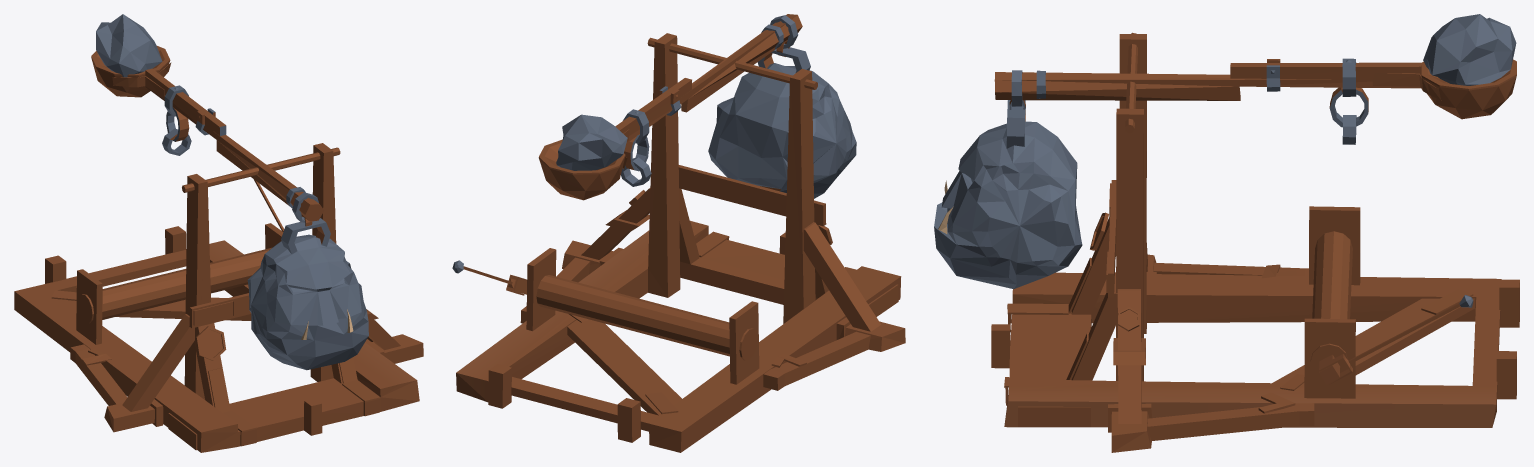
File: trebuchet.fbx
3 views of the same model, side by side, from view 1: azimuth 30°, elevation 25°; view 2: azimuth 150°, elevation 25°; view 3: azimuth 270°, elevation 25° (orthographic). The views are drawn at different scales.
Parts seen in each view (by area): view 1: Sphere001; view 2: Sphere001; view 3: Sphere001.
Boxes of the visible parts, box(x1,y1,x2,y2) form: Sphere001: box(14, 14, 423, 452); Sphere001: box(452, 14, 905, 452); Sphere001: box(934, 14, 1519, 452).
Bounding box in the file's own units: 666 × 580 × 873.
Materials: 1 (1 with a texture image).
